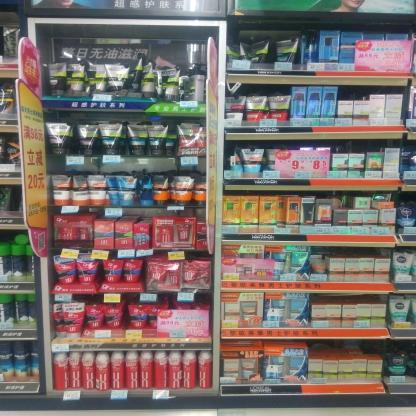Void: (316, 247, 390, 258), (310, 295, 384, 304), (312, 341, 380, 350), (332, 140, 379, 152), (341, 84, 365, 98)
